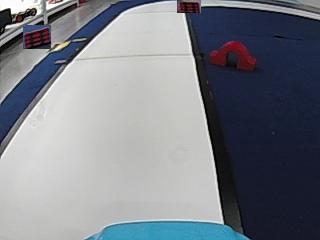bridge: (212, 38, 255, 70)
